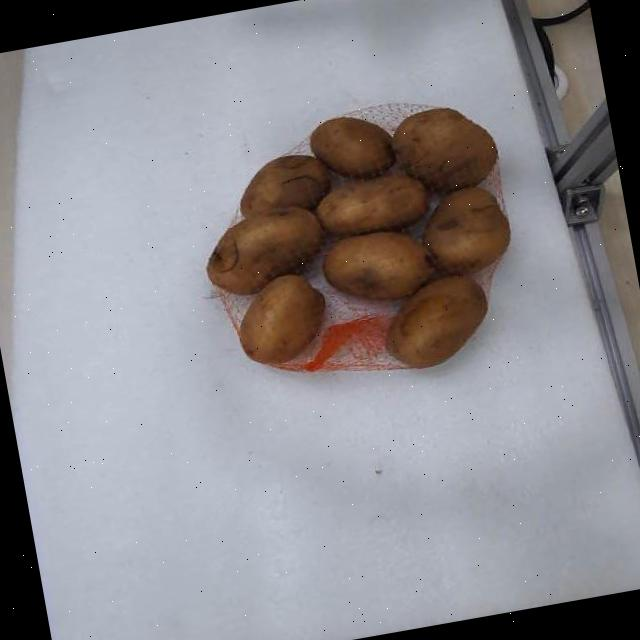potato: (206, 205, 322, 292), (386, 274, 485, 367), (392, 107, 496, 189), (238, 274, 324, 363), (322, 230, 431, 299), (423, 186, 509, 273), (315, 174, 426, 234), (240, 153, 329, 215), (309, 115, 393, 176)
